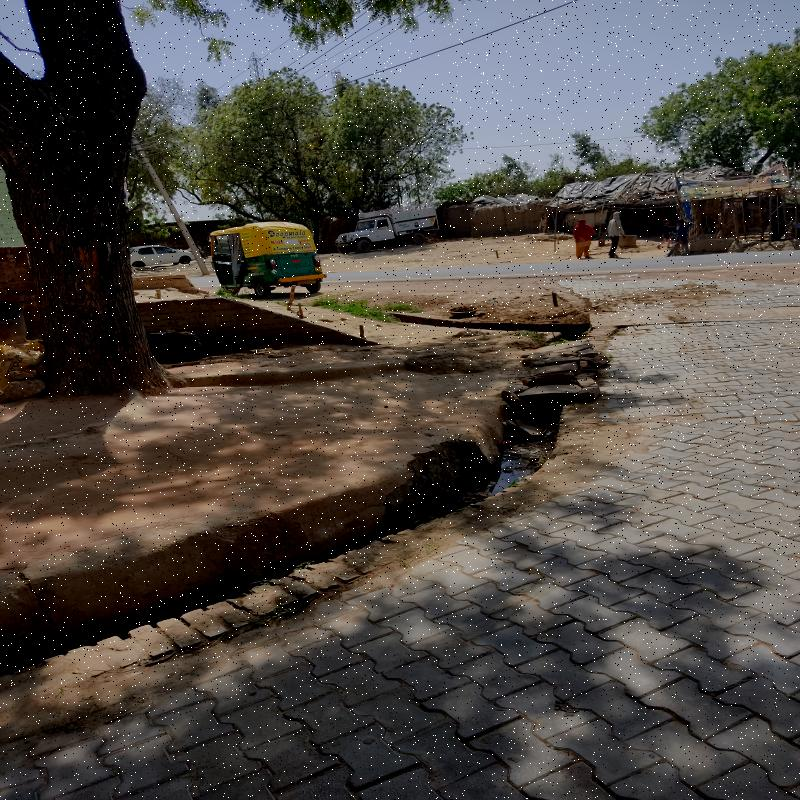auto: (216, 229, 333, 293)
